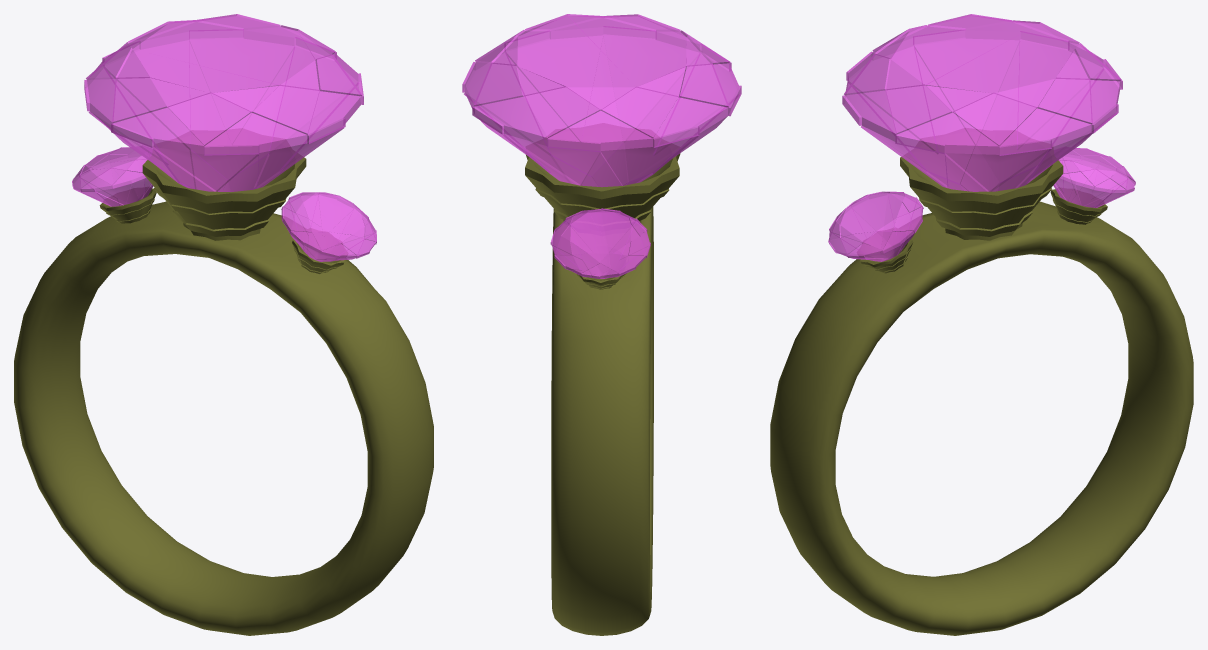
The model's file is obj_yubiwa.fbx.
The picture shows the model from 3 angles, left to right: view 1: azimuth 30°, elevation 25°; view 2: azimuth 150°, elevation 25°; view 3: azimuth 270°, elevation 25°; orthographic projection.
Parts seen in each view (by area): view 1: pCylinder1; view 2: pCylinder1; view 3: pCylinder1.
Part boxes in pixels (x1=…): pCylinder1: x1=14, y1=14, x2=433, y2=635; pCylinder1: x1=462, y1=14, x2=741, y2=635; pCylinder1: x1=770, y1=14, x2=1193, y2=635.
Bounding box in the file's own units: 10.6 × 22.85 × 15.34.
